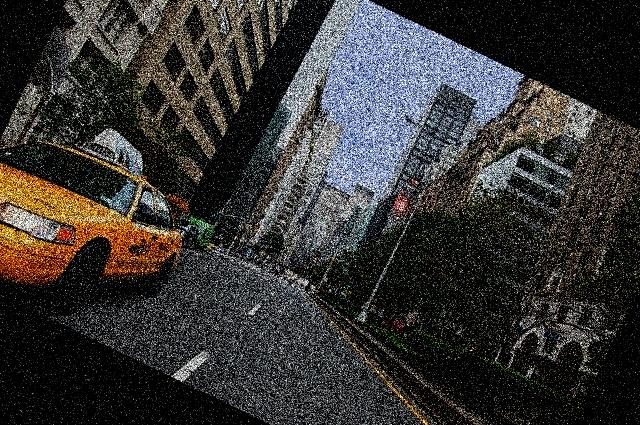taxi: (1, 146, 192, 301)
